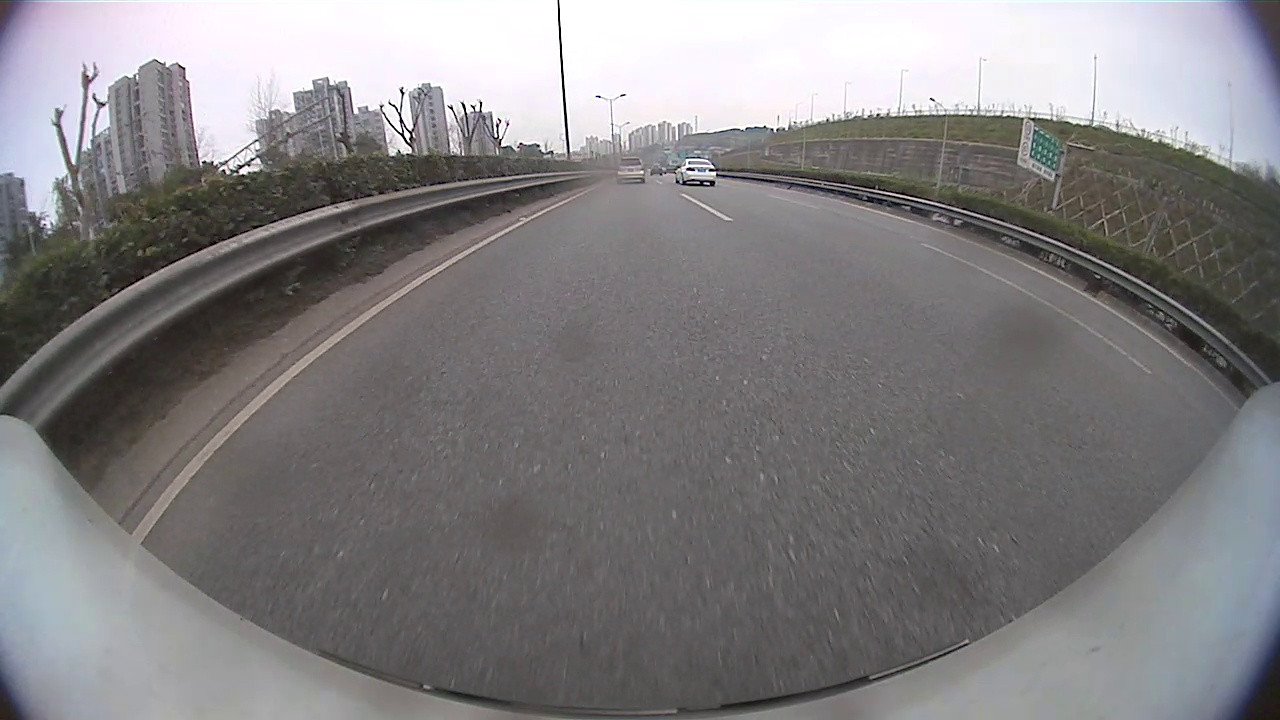car: (673, 156, 718, 186), (615, 156, 646, 184)
